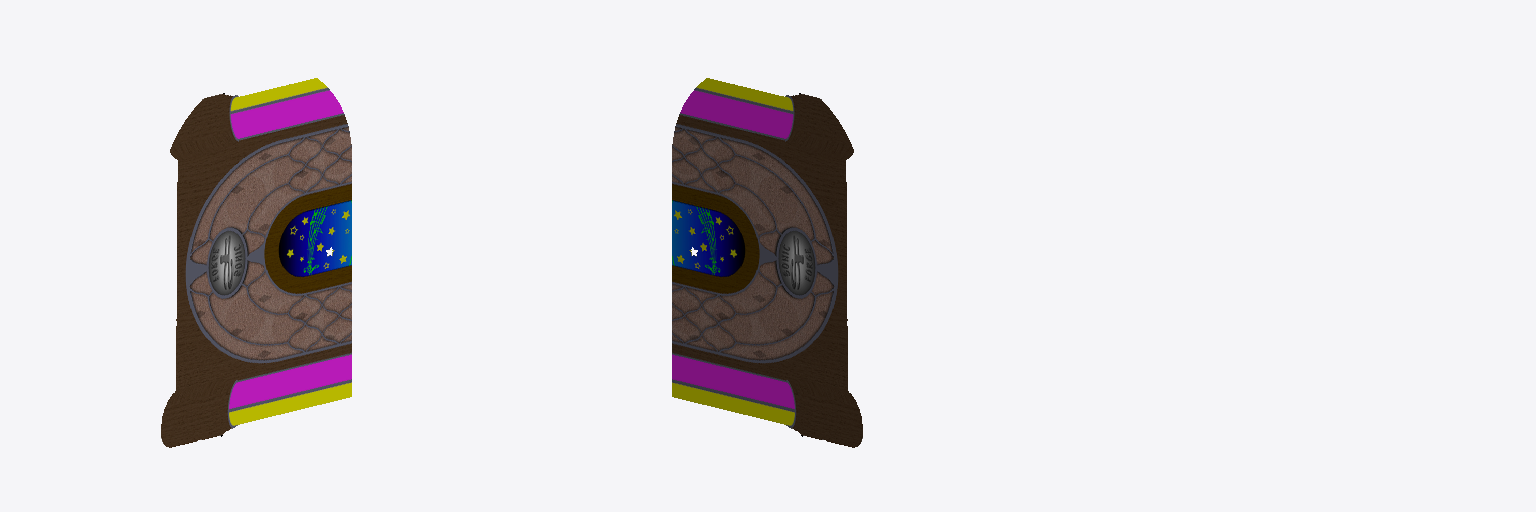
The picture shows the model from 3 angles: view 1: azimuth 30°, elevation 25°; view 2: azimuth 150°, elevation 25°; view 3: azimuth 270°, elevation 25°; orthographic projection.
Parts seen in each view (by area): view 1: Front_Jukebox_109967-geom.008; view 2: Front_Jukebox_109967-geom.008; view 3: none.
Part boxes in pixels (x1,y1,x2,y2): Front_Jukebox_109967-geom.008: (161,78,351,447); Front_Jukebox_109967-geom.008: (672,78,862,447).
Bounding box in the file's own units: 8 × 15 × 0.
Materials: 1 (1 with a texture image).